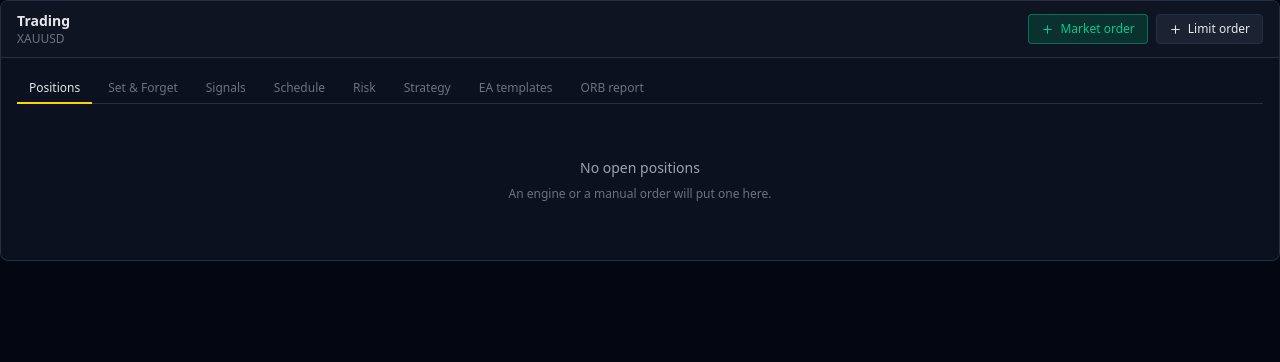
it: EA templates › says an EA is connected and when it was last heard
The image size is (1280, 362).
What coordinates should you click on to do the following:
click the tab "EA templates"
I would click on:
 (516, 89)
Its box is x1=467 y1=74 x2=564 y2=104.
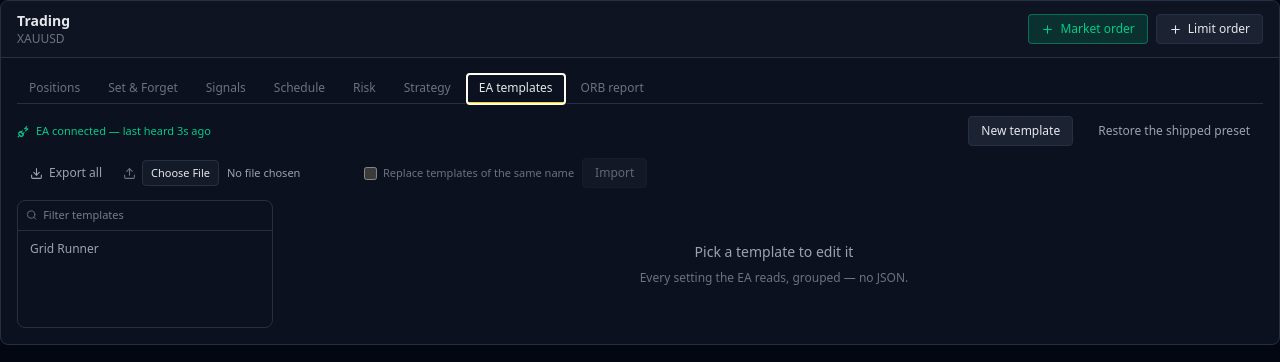
Now the element with test id "ea-status" shows "last heard 3s ago", box x1=36 y1=123 x2=211 y2=138
